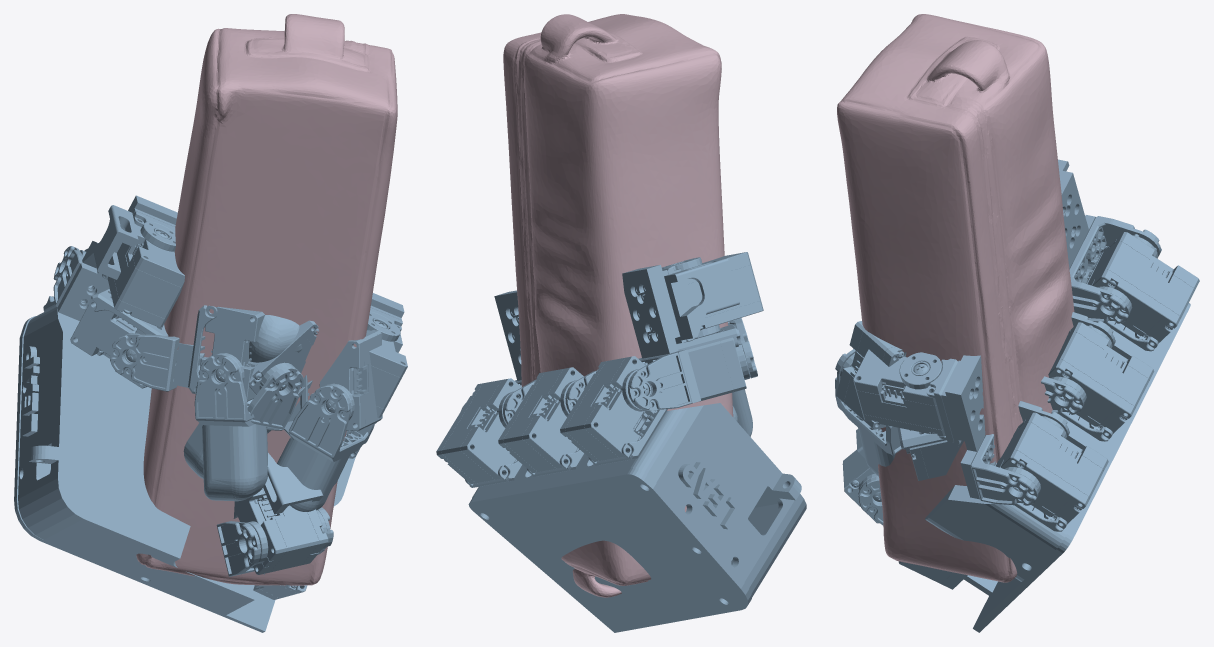
The picture shows the model from 3 angles, left to right: view 1: azimuth 30°, elevation 25°; view 2: azimuth 150°, elevation 25°; view 3: azimuth 270°, elevation 25°; orthographic projection.
Visible parts, largest first — view 1: world, obj_mesh_grasp_10.obj; view 2: world, obj_mesh_grasp_10.obj; view 3: obj_mesh_grasp_10.obj, world.
Boxes of the visible parts, x1,y1,x2,y2 form: world: (14, 195, 407, 632); obj_mesh_grasp_10.obj: (136, 14, 397, 585); world: (436, 252, 806, 632); obj_mesh_grasp_10.obj: (503, 14, 733, 597); obj_mesh_grasp_10.obj: (837, 14, 1074, 582); world: (835, 159, 1199, 632).
Size of the model in its own units: 0.1458 by 0.2485 by 0.1356.
